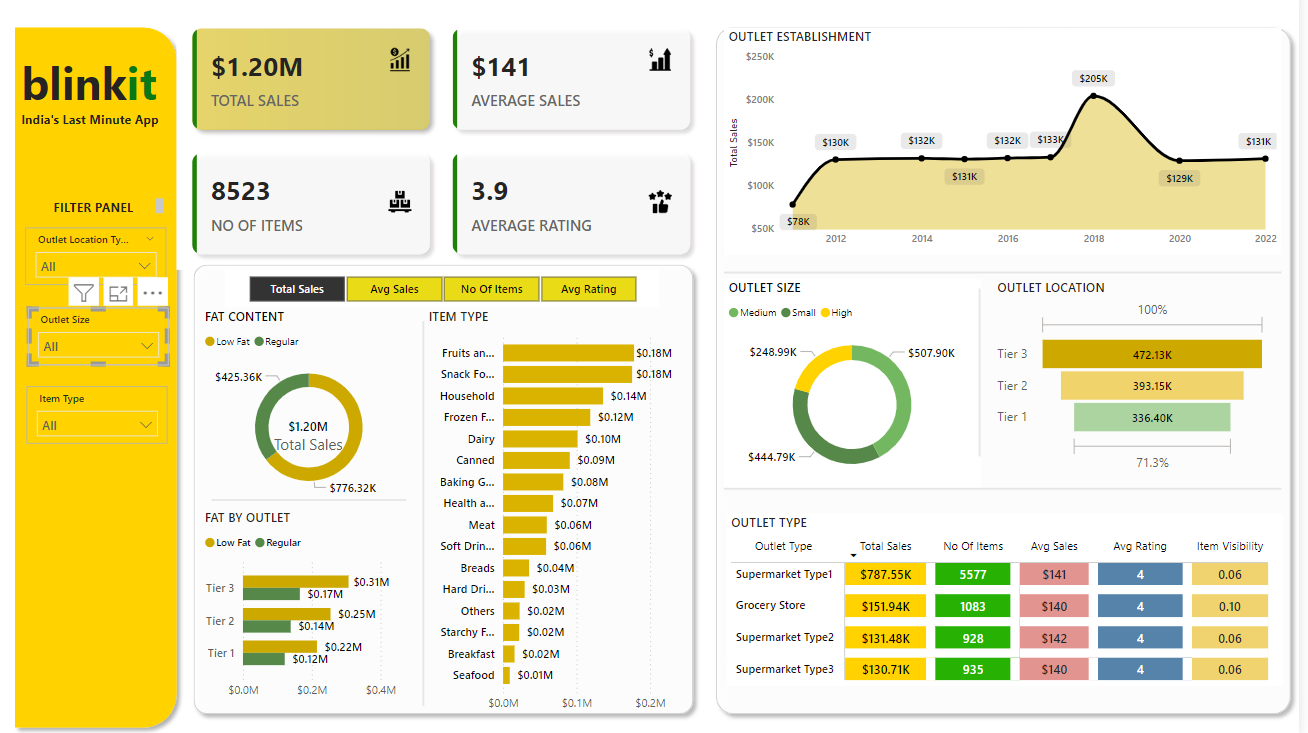

The dashboard page shown, as its layout file describes it:
{"tool":"powerbi","page":{"name":"Page 1","canvas":[1400,800],"ordinal":0},"visuals":[{"type":"shape","box":[13.4,30.8,191.7,769.4],"z":0},{"type":"textbox","box":[286.5,50,225,750],"z":1000},{"type":"textbox","box":[24,61.5,171.1,81],"z":2000},{"type":"textbox","box":[24.1,124.7,171.6,46.9],"z":3000},{"type":"cardVisual","fields":{"Data":["BlinkIT Grocery Data.Total Sales","BlinkIT Grocery Data.Avg Sales","BlinkIT Grocery Data.No Of Items","BlinkIT Grocery Data.Avg Rating"]},"box":[195.7,24.1,569.7,276.1],"z":4000},{"type":"shape","box":[205.1,285.5,553.6,500],"z":5000},{"type":"donutChart","title":"FAT CONTENT","fields":{"Y":["BlinkIT Grocery Data.Total Sales"],"Category":["BlinkIT Grocery Data.Item Fat Content"]},"box":[221.2,340.5,233.2,211.8],"z":6000},{"type":"slicer","fields":{"Values":["Metrics.Metrics"]},"box":[248,300.3,465.1,40.2],"z":7000},{"type":"cardVisual","fields":{"Data":["BlinkIT Grocery Data.Total Sales"]},"box":[281.5,434.3,111.3,87.1],"z":8000},{"type":"clusteredBarChart","title":"FAT BY OUTLET","fields":{"Y":["BlinkIT Grocery Data.Total Sales"],"Category":["BlinkIT Grocery Data.Outlet Location Type"],"Series":["BlinkIT Grocery Data.Item Fat Content"]},"box":[221.2,556.3,225.2,211.8],"z":9000},{"type":"shape","box":[233.2,537.5,209.1,18.8],"z":10000},{"type":"shape","box":[446.4,355.2,28.2,412.9],"z":11000},{"type":"barChart","title":"ITEM TYPE","fields":{"Y":["BlinkIT Grocery Data.Total Sales"],"Category":["BlinkIT Grocery Data.Item Type"]},"box":[461.1,340.5,288.2,442.4],"z":12000},{"type":"shape","box":[765.4,30.8,634.1,754.7],"z":13000},{"type":"lineChart","title":"OUTLET ESTABLISHMENT","fields":{"Y":["BlinkIT Grocery Data.Total Sales"],"Category":["BlinkIT Grocery Data.Outlet Establishment Year"]},"box":[782.8,40.2,597.9,244],"z":14000},{"type":"shape","box":[782.8,285.5,597.9,34.9],"z":15000},{"type":"donutChart","title":"OUTLET SIZE","fields":{"Y":["BlinkIT Grocery Data.Total Sales"],"Category":["BlinkIT Grocery Data.Outlet Size"]},"box":[782.8,309.7,275,225],"z":16000},{"type":"shape","box":[1042.9,320.4,28.2,179.6],"z":17000},{"type":"funnel","title":"OUTLET LOCATION","fields":{"Y":["Sum(BlinkIT Grocery Data.Sales)"],"Category":["BlinkIT Grocery Data.Outlet Location Type"]},"box":[1071.1,309.7,298.9,211.8],"z":18000},{"type":"shape","box":[782.8,517.4,597.9,34.9],"z":19000},{"type":"pivotTable","title":"OUTLET TYPE","fields":{"Rows":["BlinkIT Grocery Data.Outlet Type"],"Values":["BlinkIT Grocery Data.Total Sales","BlinkIT Grocery Data.No Of Items","BlinkIT Grocery Data.Avg Sales","BlinkIT Grocery Data.Avg Rating","Avg(BlinkIT Grocery Data.Item Visibility)"]},"box":[785.5,561.7,596.5,185],"z":20000},{"type":"slicer","fields":{"Values":["BlinkIT Grocery Data.Outlet Location Type"]},"box":[33.5,254.7,151.5,61.7],"z":21000},{"type":"slicer","fields":{"Values":["BlinkIT Grocery Data.Outlet Size"]},"box":[36.2,340.5,151.5,61.7],"z":22000},{"type":"slicer","fields":{"Values":["BlinkIT Grocery Data.Item Type"]},"box":[34.9,424.9,151.5,61.7],"z":23000},{"type":"textbox","box":[34.9,218.5,151.5,26.8],"z":24000}]}

Visuals, with their boxes in screenshot pixels (x1, y1, x2, y2), scaled from the page's 1400x800 canvas onto the 1308x733 screenshot:
shape: <region>13, 28, 192, 732</region>
textbox: <region>268, 46, 478, 732</region>
textbox: <region>22, 56, 182, 131</region>
textbox: <region>23, 114, 183, 157</region>
cardVisual - BlinkIT Grocery Data.Total Sales x BlinkIT Grocery Data.Avg Sales: <region>183, 22, 715, 275</region>
shape: <region>192, 262, 709, 720</region>
"FAT CONTENT" donutChart: <region>207, 312, 425, 506</region>
slicer - Metrics.Metrics: <region>232, 275, 666, 312</region>
cardVisual - BlinkIT Grocery Data.Total Sales: <region>263, 398, 367, 478</region>
"FAT BY OUTLET" clusteredBarChart: <region>207, 510, 417, 704</region>
shape: <region>218, 492, 413, 510</region>
shape: <region>417, 325, 443, 704</region>
"ITEM TYPE" barChart: <region>431, 312, 700, 717</region>
shape: <region>715, 28, 1307, 720</region>
"OUTLET ESTABLISHMENT" lineChart: <region>731, 37, 1290, 260</region>
shape: <region>731, 262, 1290, 294</region>
"OUTLET SIZE" donutChart: <region>731, 284, 988, 490</region>
shape: <region>974, 294, 1001, 458</region>
"OUTLET LOCATION" funnel: <region>1001, 284, 1280, 478</region>
shape: <region>731, 474, 1290, 506</region>
"OUTLET TYPE" pivotTable: <region>734, 515, 1291, 684</region>
slicer - BlinkIT Grocery Data.Outlet Location Type: <region>31, 233, 173, 290</region>
slicer - BlinkIT Grocery Data.Outlet Size: <region>34, 312, 175, 369</region>
slicer - BlinkIT Grocery Data.Item Type: <region>33, 389, 174, 446</region>
textbox: <region>33, 200, 174, 225</region>
